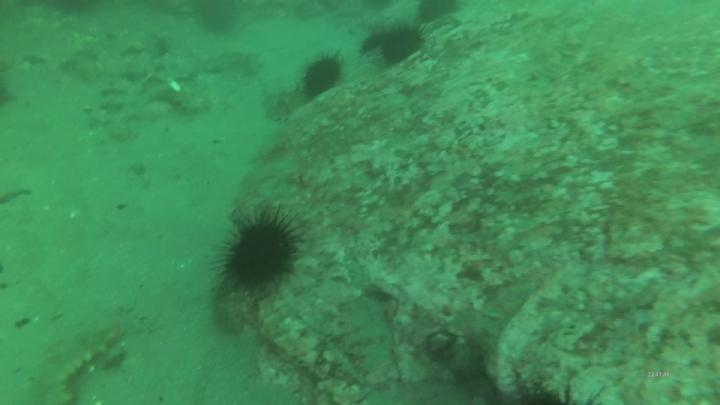echinus: (210, 208, 307, 297), (300, 50, 344, 102), (381, 20, 426, 67), (198, 1, 241, 40), (415, 1, 465, 26), (356, 27, 392, 60)
holothurian: (34, 324, 129, 405), (212, 276, 257, 340), (261, 89, 311, 126)
